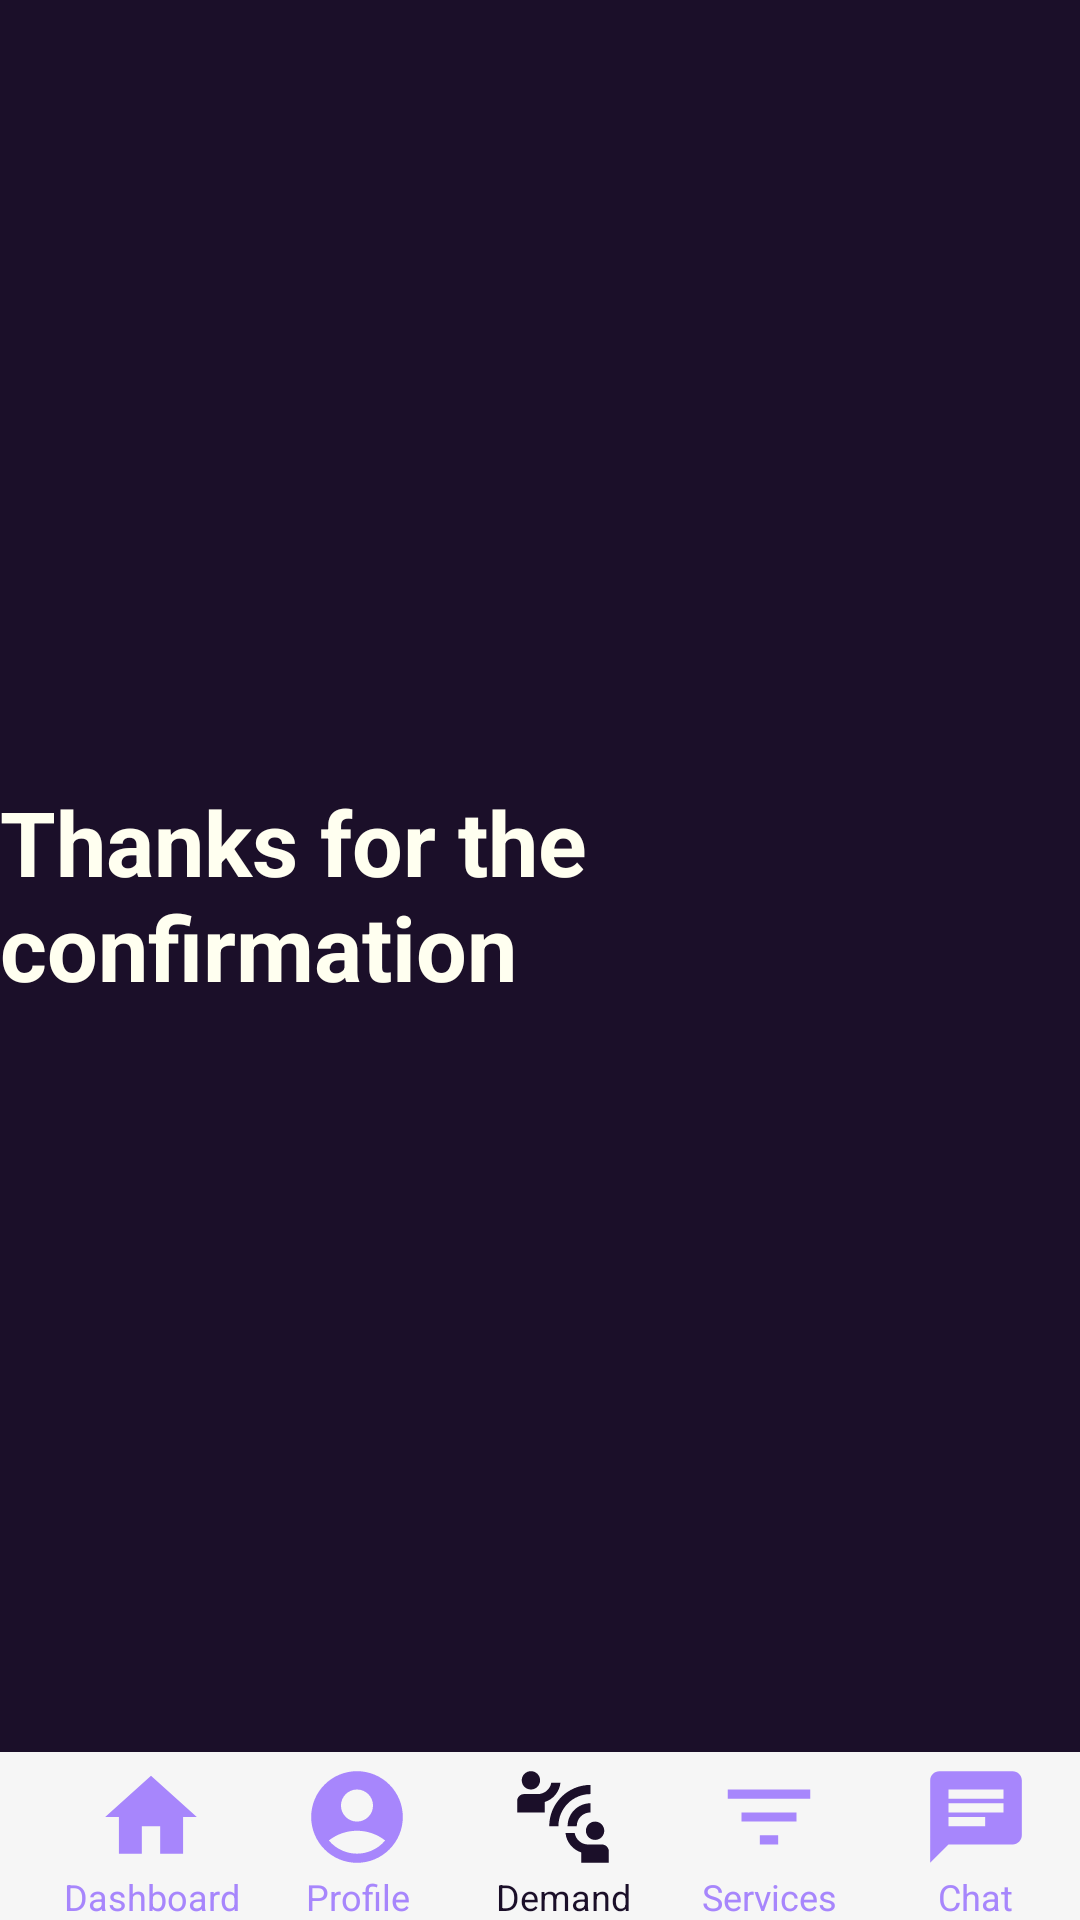

Icons on this 1080px x 1920px Android screen, each with its box as bbox=(x1, y1, x2, y2):
home: bbox=(105, 1776, 197, 1854)
user: bbox=(311, 1771, 403, 1863)
